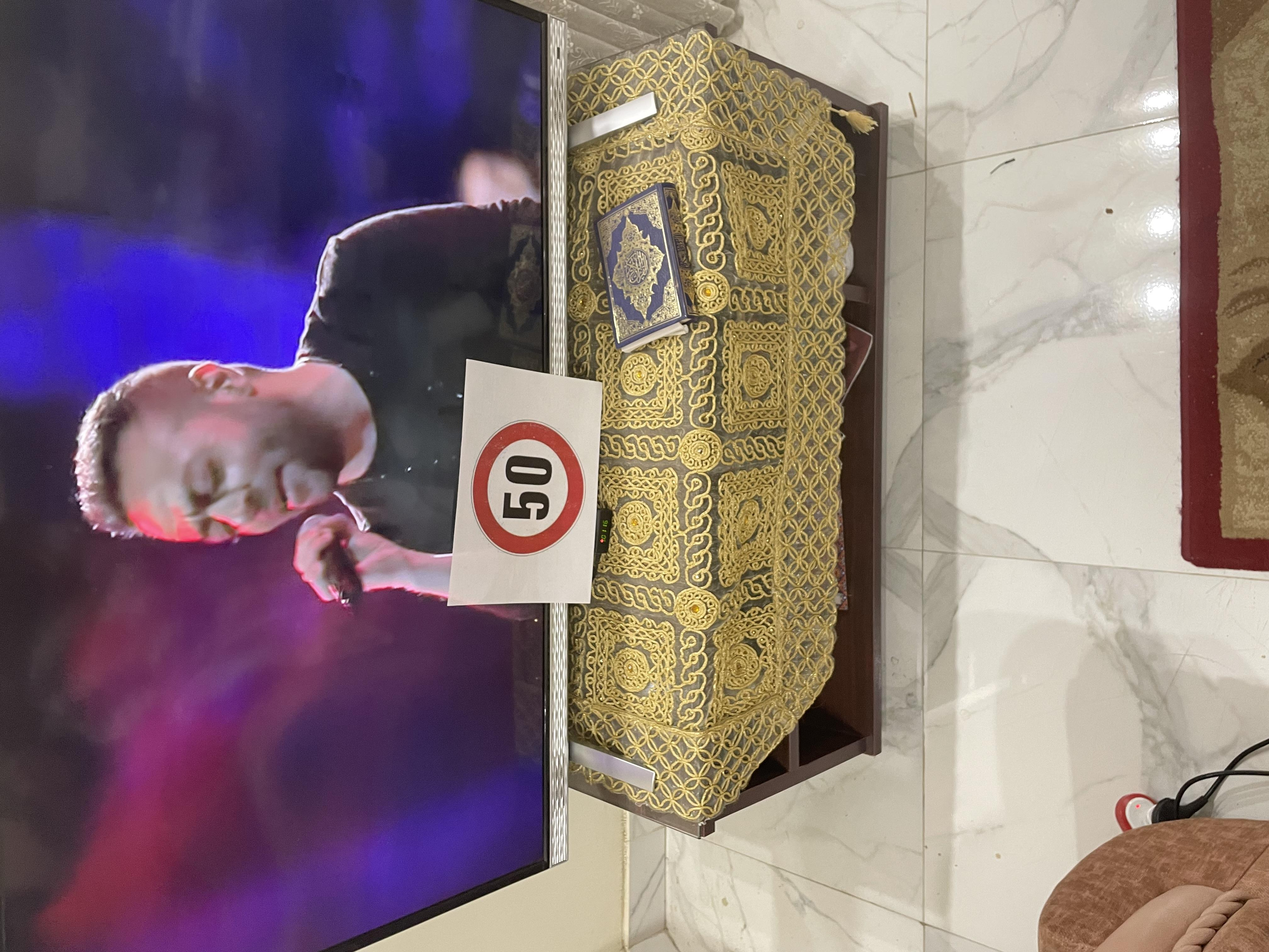50-Speed: (530, 349, 711, 440)
